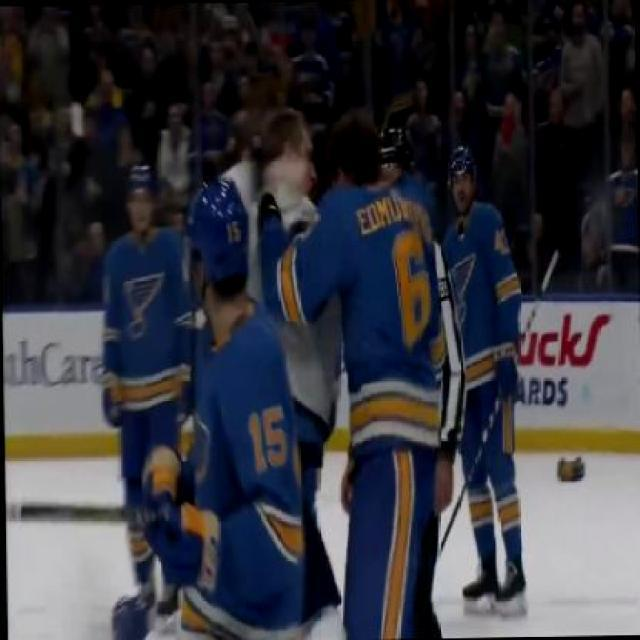fight: (228, 103, 442, 460)
non-fight: (100, 162, 192, 638), (440, 140, 531, 618)
